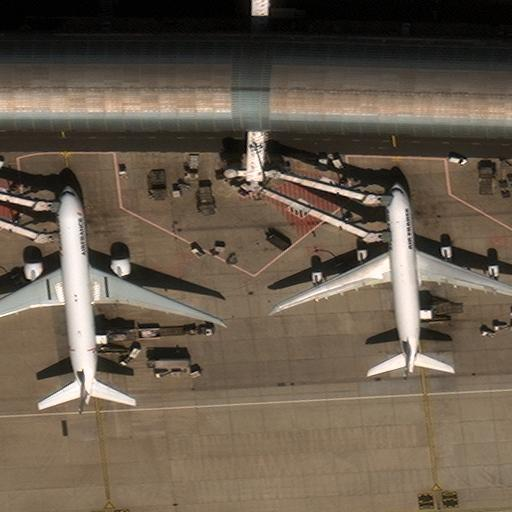Large Civil Transport: (0, 185, 221, 413), (275, 183, 511, 372)
